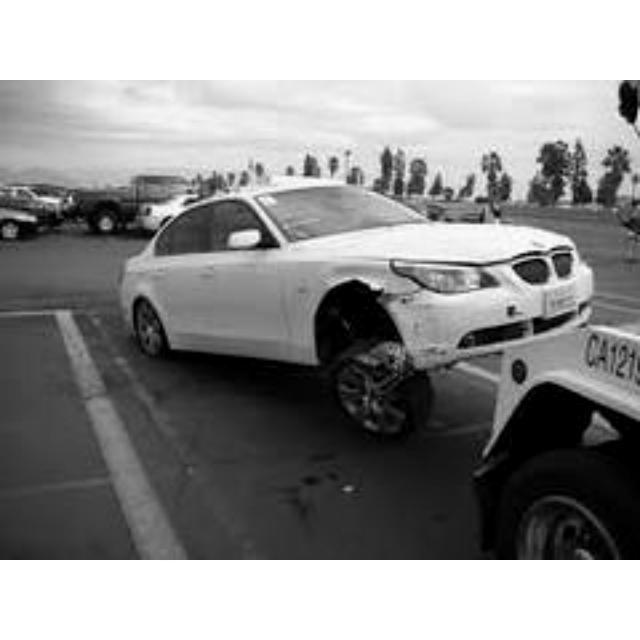fender-dent: (294, 254, 427, 288)
